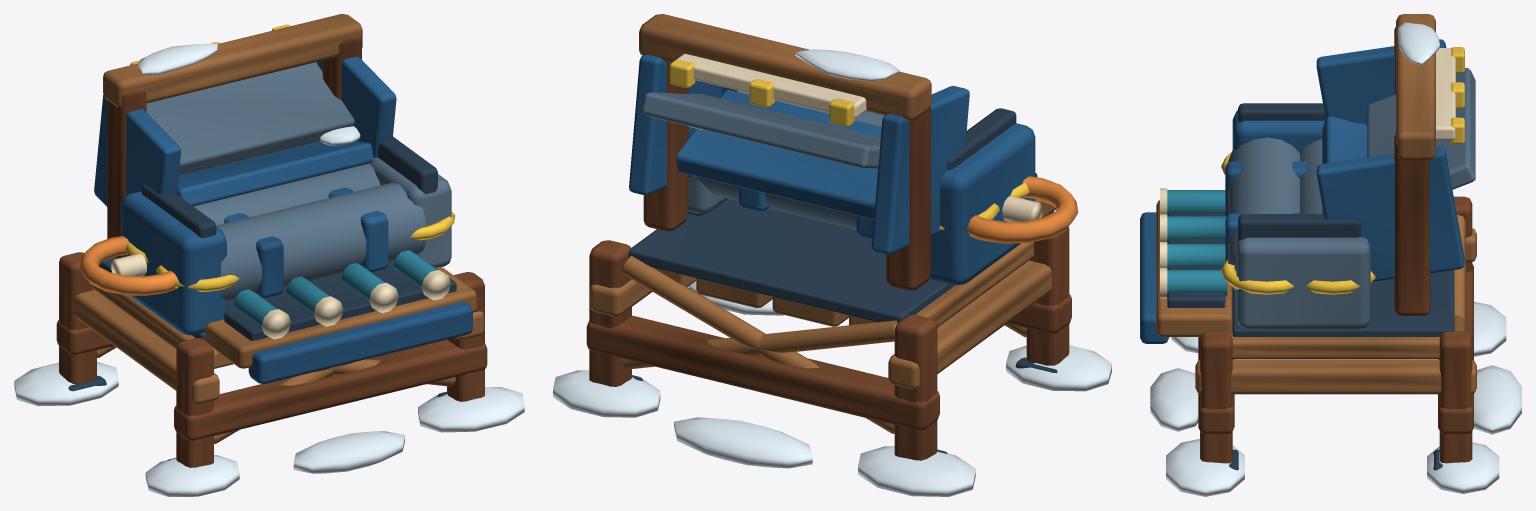
File: intake_machine.glb
3 views of the same model, side by side, from view 1: azimuth 30°, elevation 25°; view 2: azimuth 150°, elevation 25°; view 3: azimuth 270°, elevation 25° (orthographic). The views are drawn at different scales.
Visible parts, largest first — view 1: intake_machine; view 2: intake_machine; view 3: intake_machine.
Boxes of the visible parts, x1,y1,x2,y2 form: intake_machine: (14, 14, 524, 496); intake_machine: (553, 14, 1111, 496); intake_machine: (1140, 14, 1521, 496).
Bounding box in the file's own units: 2.51 × 2.12 × 2.1.
